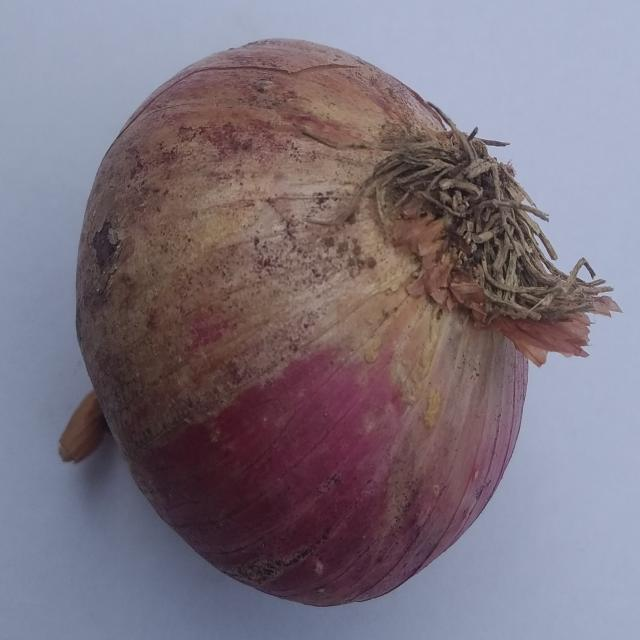onion: (58, 36, 625, 609)
